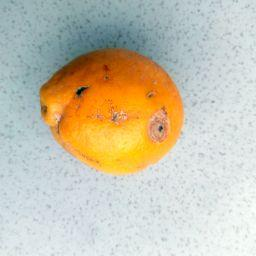Unripe: (38, 46, 183, 175)
